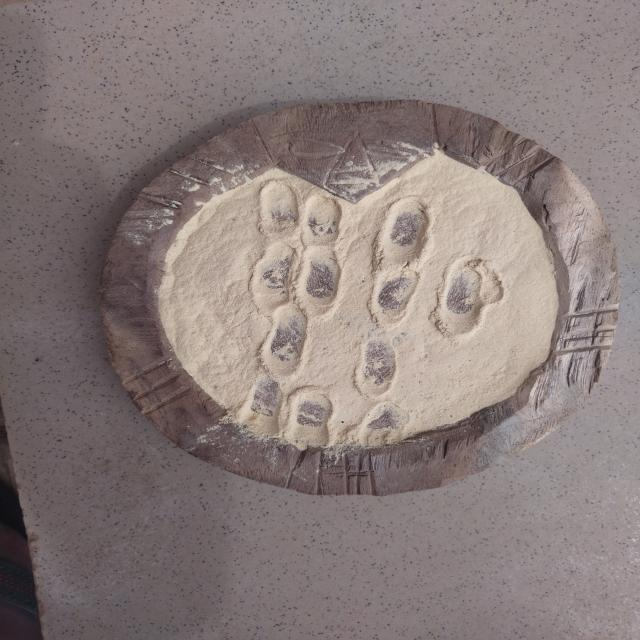double: (364, 260, 502, 332), (245, 242, 348, 304), (245, 380, 337, 442), (254, 182, 345, 240)
single: (372, 193, 438, 267), (258, 306, 310, 376), (354, 336, 400, 398), (359, 398, 412, 440)
